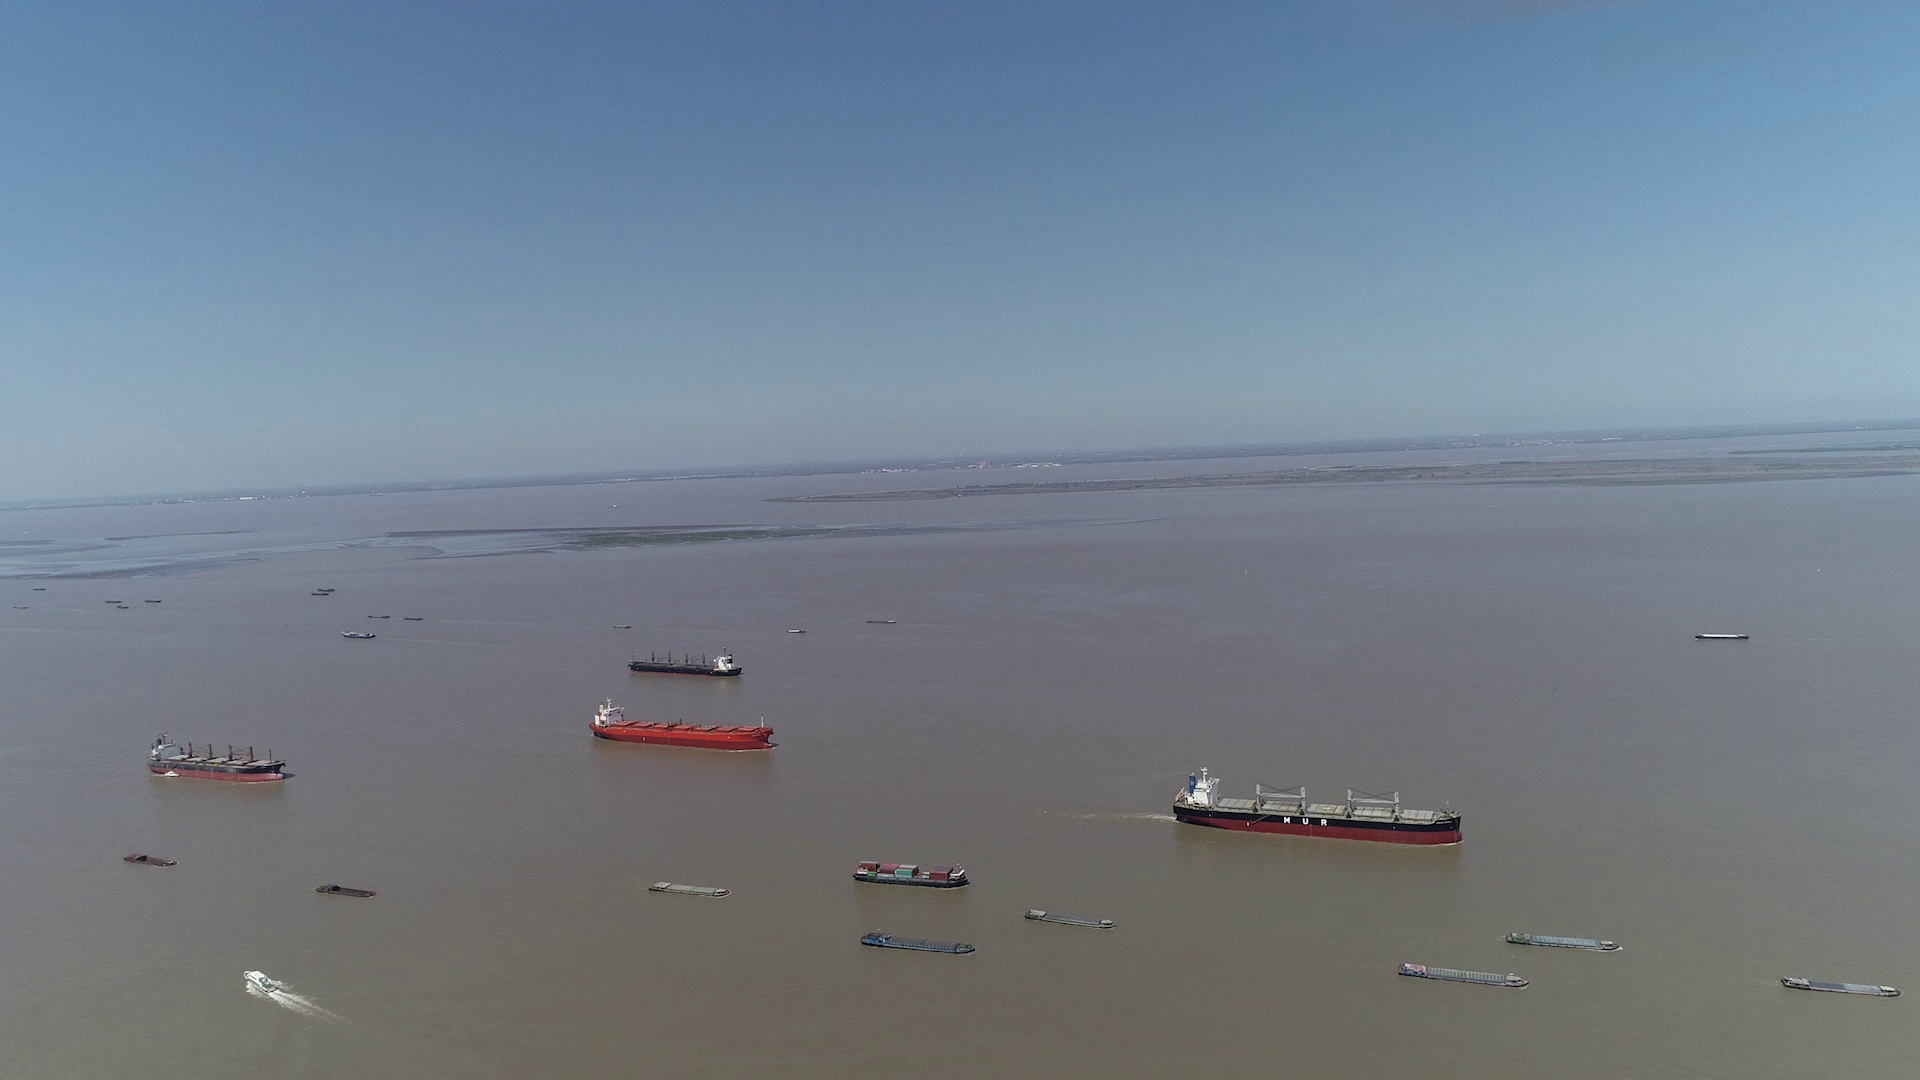ship: (1175, 767, 1464, 844), (589, 699, 774, 749), (152, 731, 287, 783), (855, 873, 971, 909), (1396, 961, 1530, 988), (853, 858, 968, 887), (628, 651, 741, 676), (858, 931, 976, 953), (1782, 976, 1900, 997), (1506, 931, 1618, 951), (1025, 909, 1112, 928), (646, 881, 731, 897), (315, 884, 377, 898), (123, 853, 175, 866), (245, 969, 273, 990), (1693, 632, 1750, 641), (342, 632, 375, 640)
